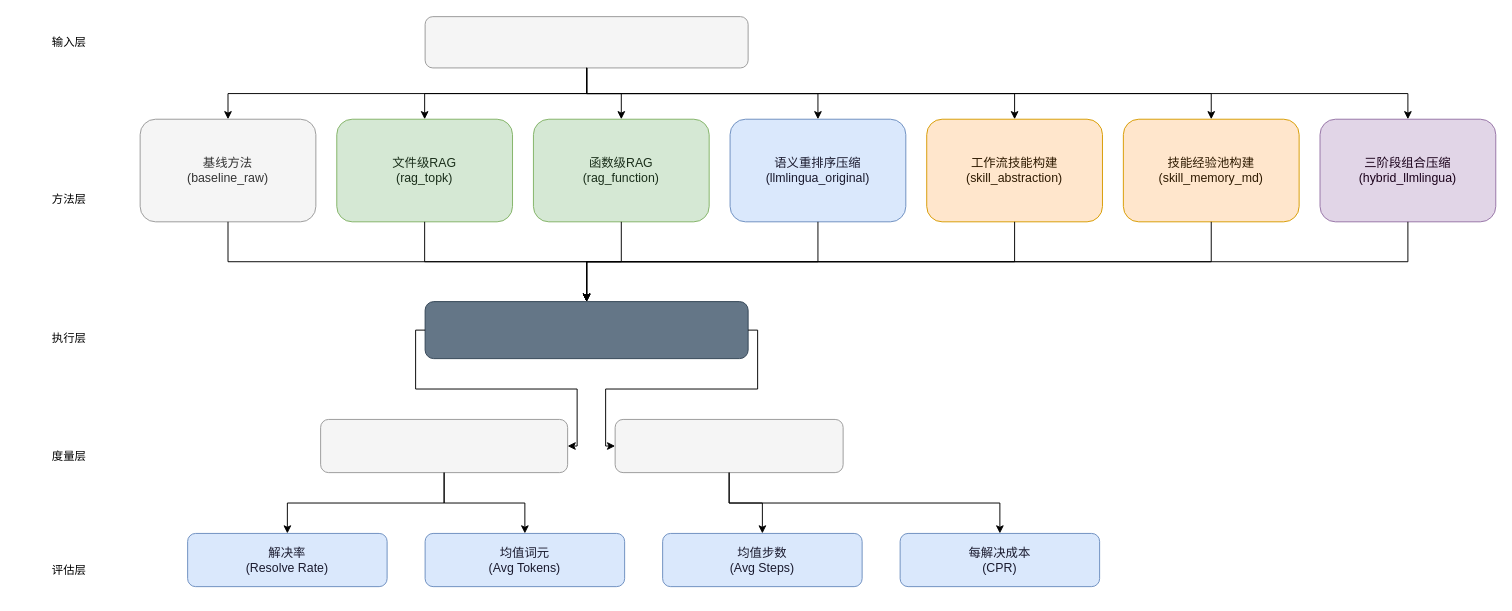
The diagram is 1512 pixels wide and 611 high, and some of its shapes have lost their labels. The box of each missing label's shape, as (x1, y1, x2, y2) in pixels:
mini-swe-agent (ACI 执行框架): (424, 301, 748, 359)
SWE-bench 任务实例 (issue + 代码仓库快照): (424, 16, 748, 68)
trajectory.json (逐步 token 记录): (614, 418, 843, 473)
本地词元计量网关 (token proxy): (320, 418, 568, 473)
